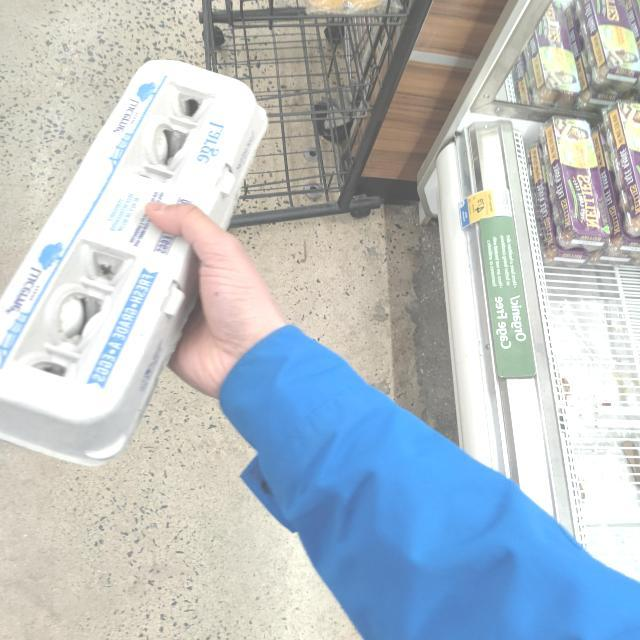egg: (0, 60, 266, 457), (544, 114, 608, 252), (574, 0, 638, 96), (530, 0, 580, 106)
